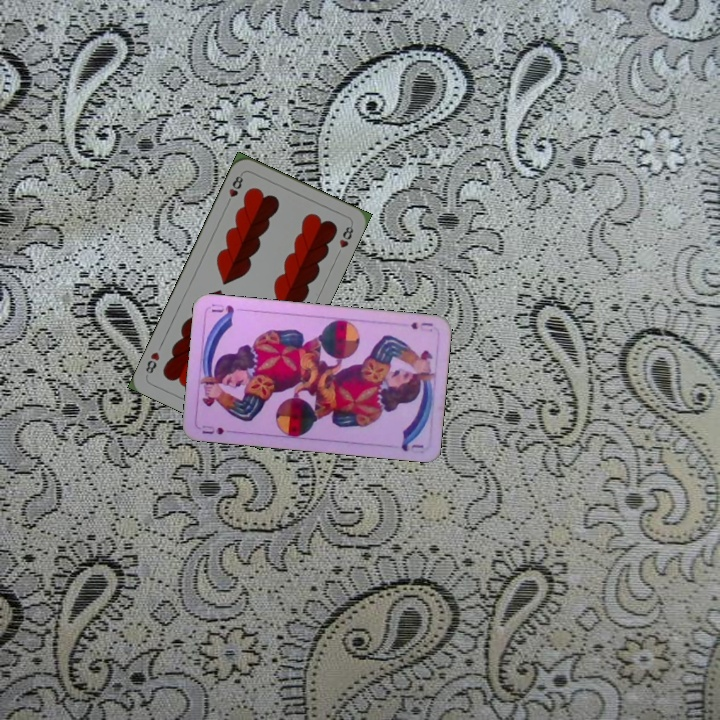H8: (222, 170, 246, 208)
SU: (198, 421, 226, 437), (406, 318, 435, 332)
